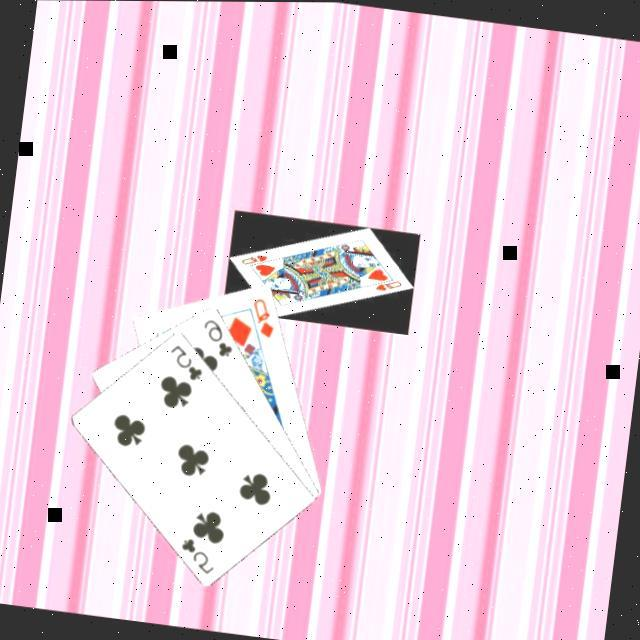5C: (164, 338, 211, 383), (175, 532, 222, 577)
6C: (198, 313, 241, 359)
QD: (247, 292, 282, 340)
